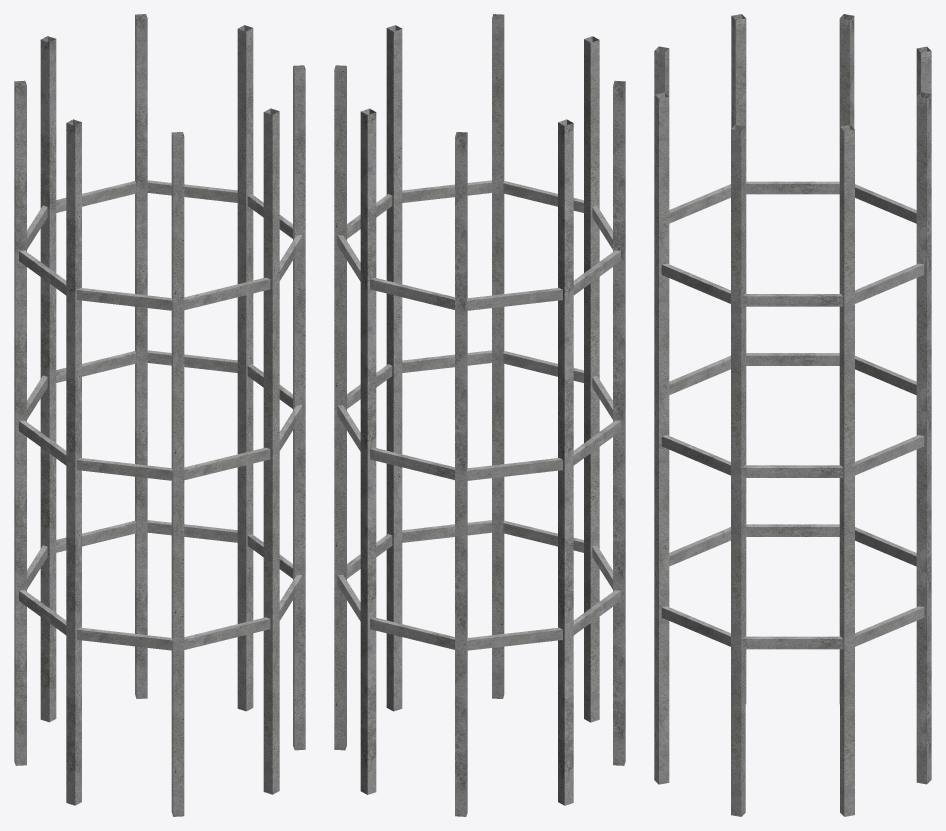
The model's file is Beton.fbx.
3 renders of one model, left to right at view 1: azimuth 30°, elevation 25°; view 2: azimuth 150°, elevation 25°; view 3: azimuth 270°, elevation 25°, orthographic.
Visible parts, largest first — view 1: Cube.015, Cube.001, Cube.002, Cube.003, Cube.006, Cube.004, Cube.269, Cube.005, Cube.007, Cube.407; view 2: Cube.003, Cube.002, Cube.015, Cube.001, Cube.407, Cube.005, Cube.007, Cube.004, Cube.269, Cube.006; view 3: Cube.001, Cube.003, Cube.002, Cube.015, Cube.006, Cube.269, Cube.004, Cube.007, Cube.407, Cube.005.
Part boxes in pixels (left/top/right/bottom): Cube.015: left=40, top=36, right=279, bottom=794; Cube.001: left=66, top=25, right=253, bottom=805; Cube.002: left=135, top=14, right=184, bottom=816; Cube.003: left=14, top=65, right=305, bottom=765; Cube.006: left=19, top=520, right=292, bottom=650; Cube.004: left=19, top=350, right=292, bottom=480; Cube.269: left=19, top=180, right=292, bottom=310; Cube.005: left=27, top=351, right=302, bottom=480; Cube.007: left=27, top=520, right=302, bottom=649; Cube.407: left=27, top=181, right=302, bottom=310; Cube.003: left=386, top=25, right=573, bottom=805; Cube.002: left=360, top=36, right=599, bottom=794; Cube.015: left=455, top=14, right=504, bottom=816; Cube.001: left=334, top=65, right=625, bottom=765; Cube.407: left=370, top=180, right=583, bottom=310; Cube.005: left=370, top=350, right=583, bottom=480; Cube.007: left=370, top=520, right=583, bottom=650; Cube.004: left=337, top=364, right=620, bottom=465; Cube.269: left=337, top=194, right=620, bottom=295; Cube.006: left=337, top=533, right=620, bottom=634; Cube.001: left=731, top=14, right=854, bottom=816; Cube.003: left=731, top=14, right=854, bottom=816; Cube.002: left=654, top=46, right=931, bottom=784; Cube.015: left=654, top=46, right=931, bottom=784; Cube.006: left=669, top=524, right=924, bottom=649; Cube.269: left=669, top=181, right=924, bottom=306; Cube.004: left=669, top=353, right=924, bottom=477; Cube.007: left=661, top=527, right=916, bottom=646; Cube.407: left=661, top=184, right=916, bottom=303; Cube.005: left=661, top=356, right=916, bottom=475.
Size of the model in its own units: 976 by 2667 by 976.
